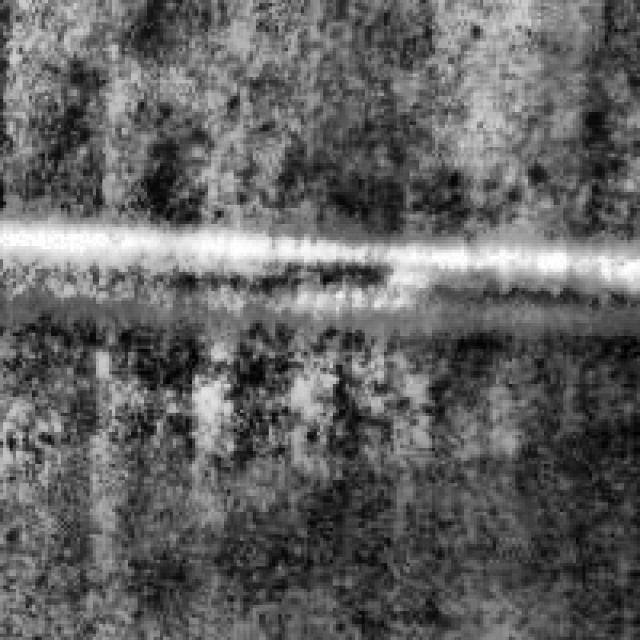Inclusion: (0, 211, 634, 304)
